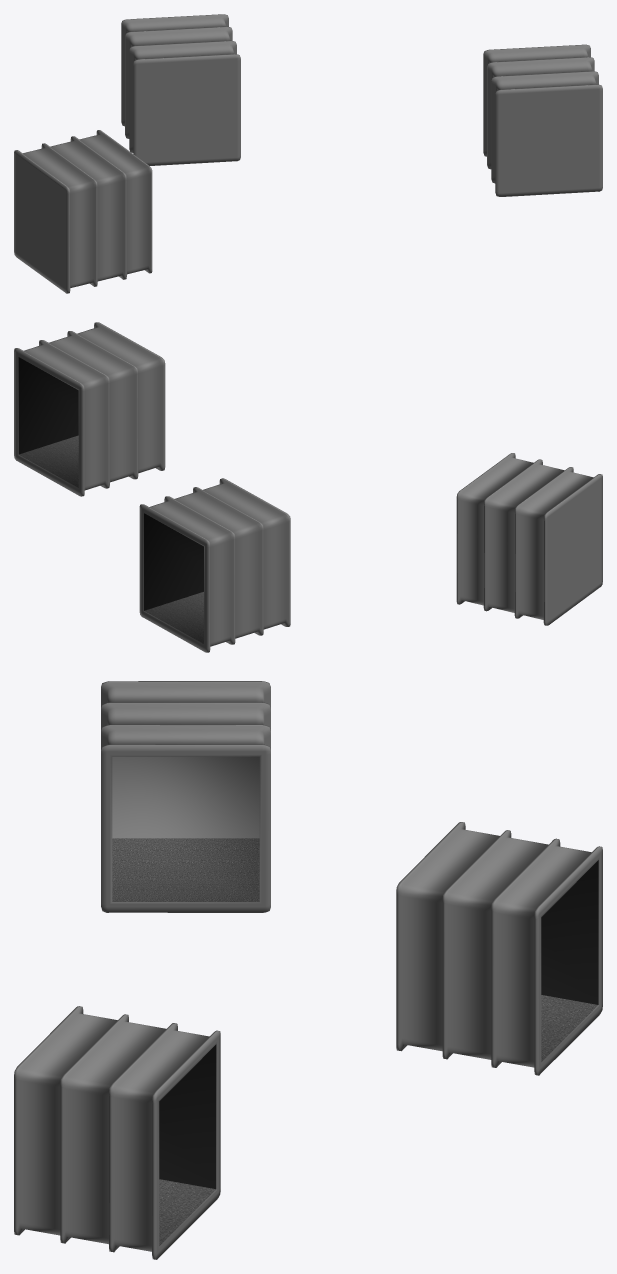
File: TELLUS_arena_furniture_whiteBooths.FBX
3 views of the same model, one above another, from view 1: azimuth 30°, elevation 25°; view 2: azimuth 150°, elevation 25°; view 3: azimuth 270°, elevation 25° (orthographic). The views are drawn at different scales.
Parts seen in each view (by area): view 1: TELLUS_arena_furniture_whiteBooths; view 2: TELLUS_arena_furniture_whiteBooths; view 3: TELLUS_arena_furniture_whiteBooths.
Boxes of the visible parts, bbox=[...] form: TELLUS_arena_furniture_whiteBooths: bbox=[14, 14, 602, 293]; TELLUS_arena_furniture_whiteBooths: bbox=[14, 322, 602, 652]; TELLUS_arena_furniture_whiteBooths: bbox=[14, 681, 602, 1259].
Bounding box in the file's own units: 1563 × 940 × 295.
